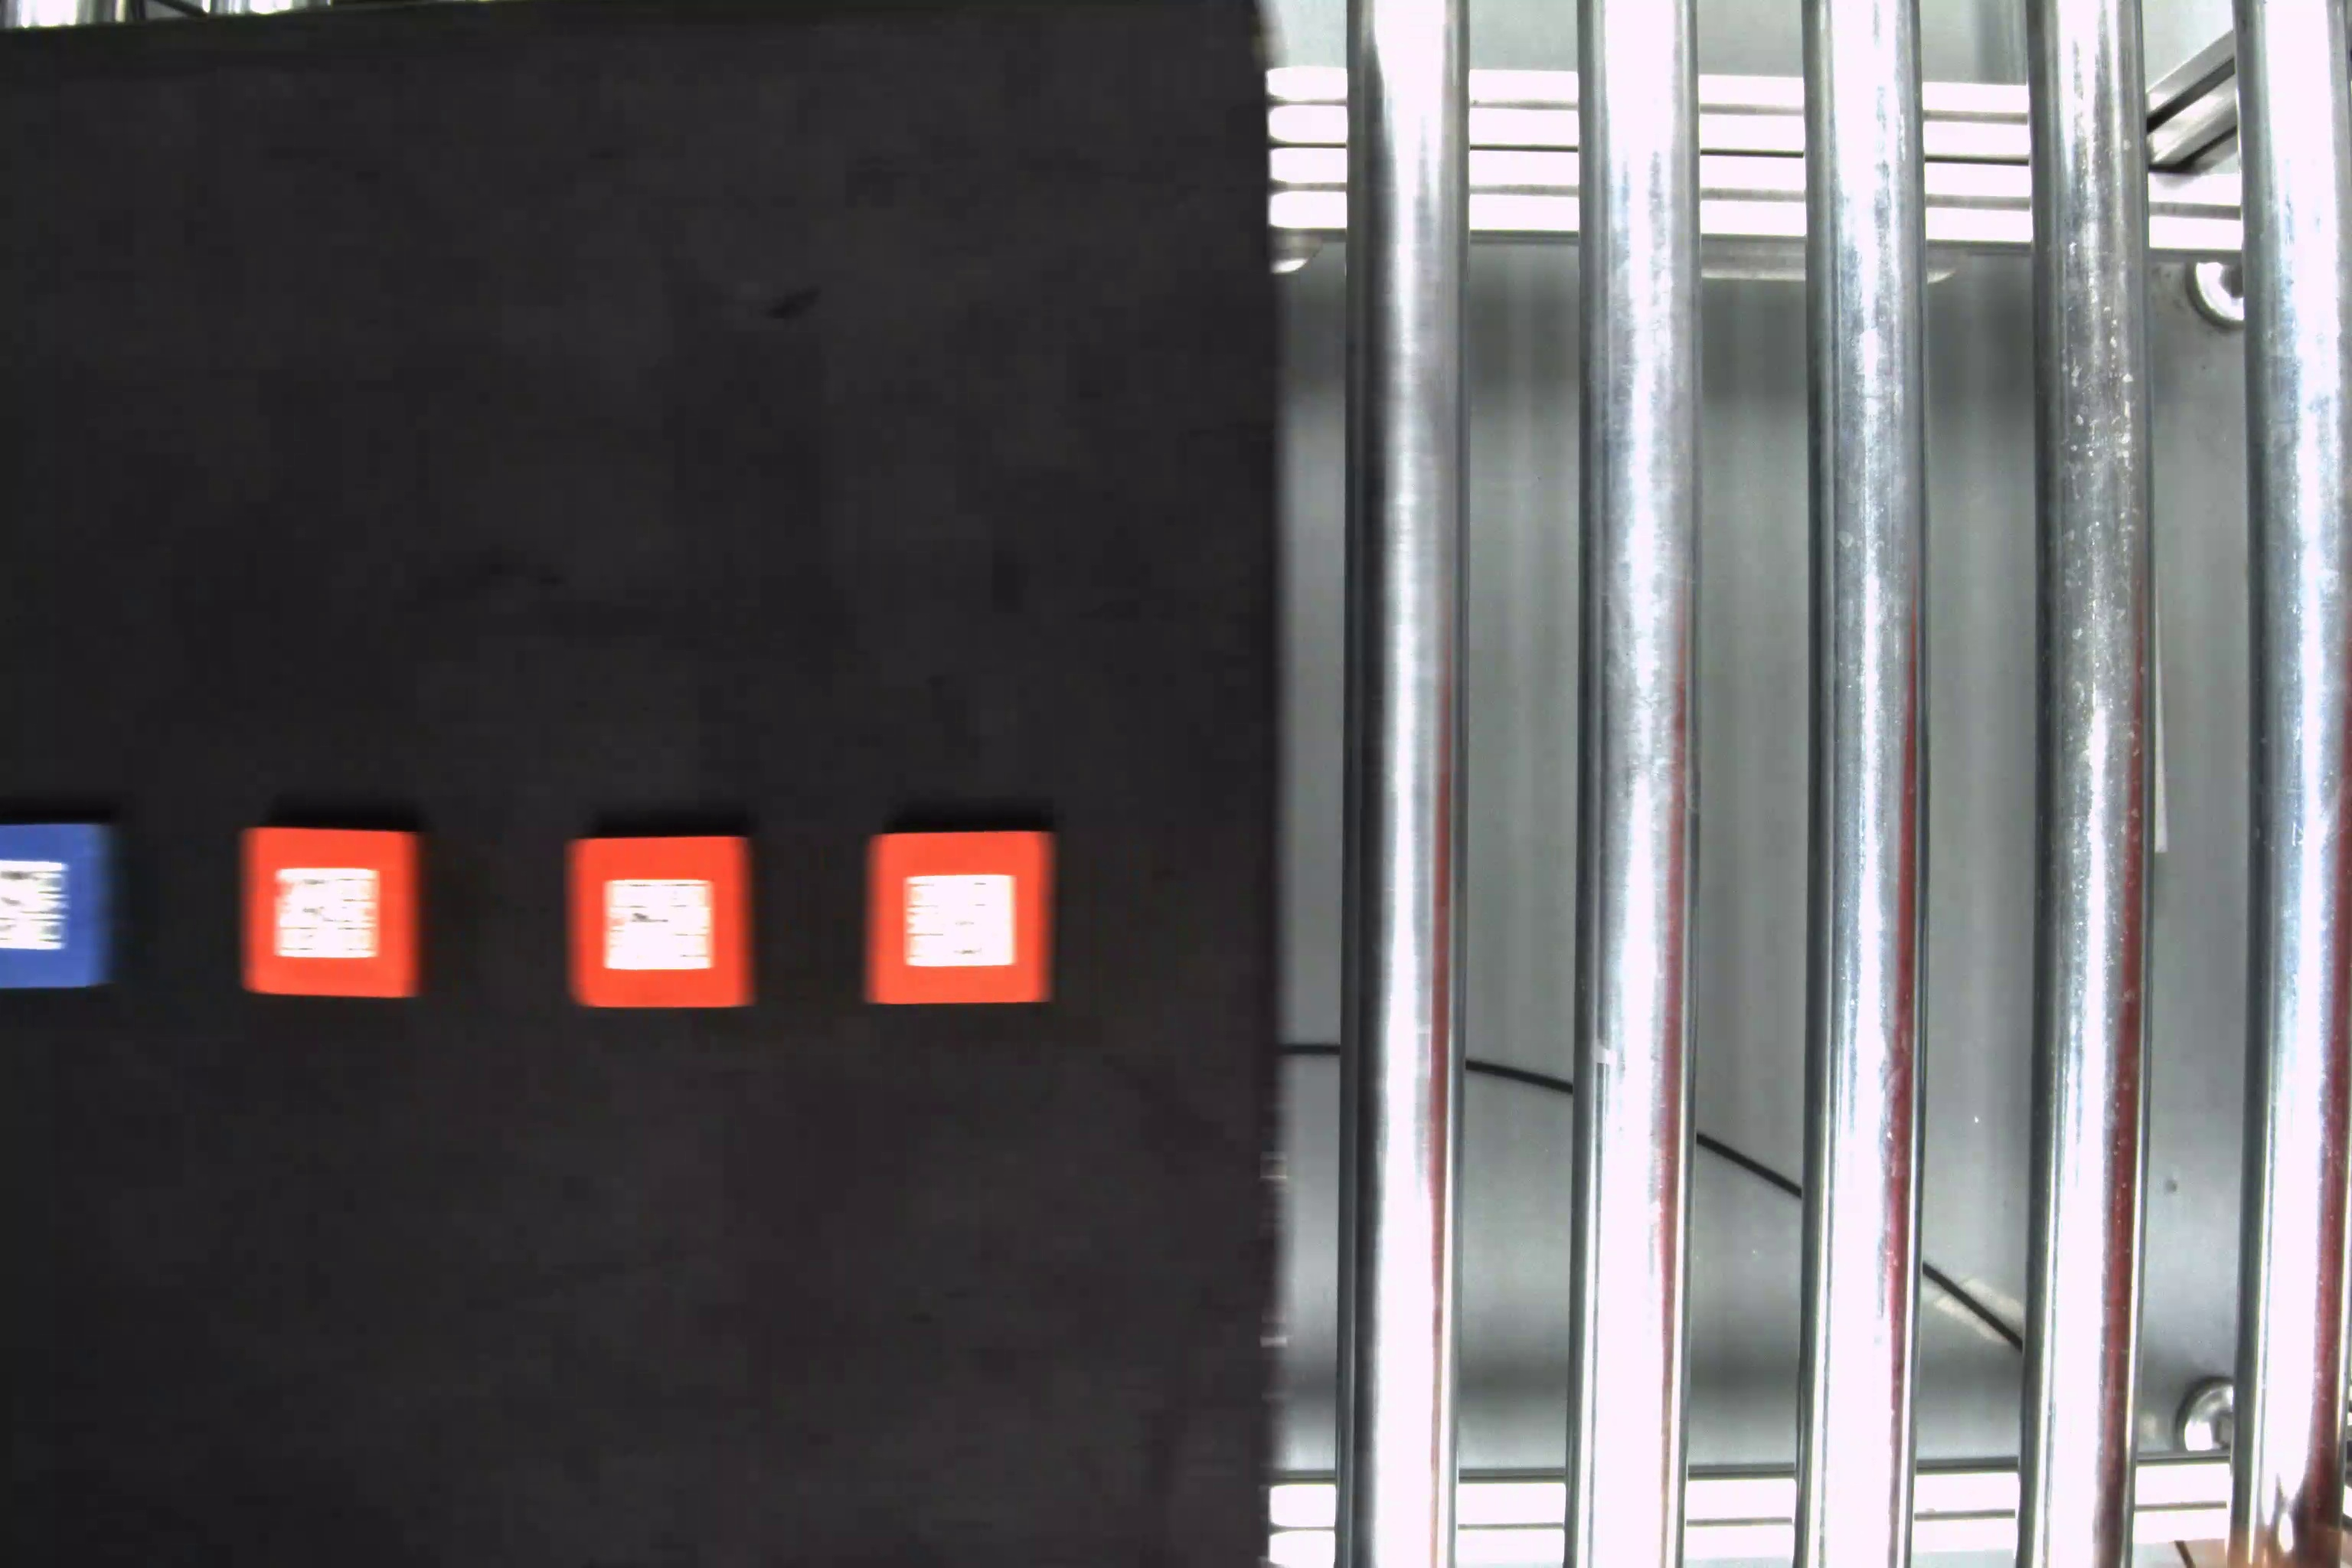wood: (859, 831, 1062, 1013), (238, 822, 436, 1006), (569, 831, 751, 1008), (3, 812, 135, 997)
